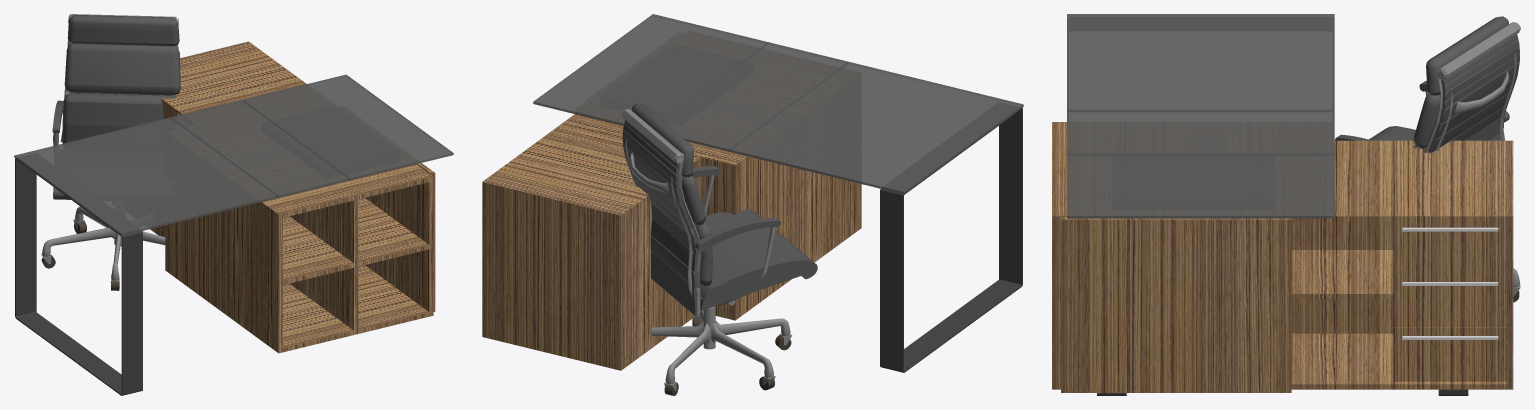
The model's file is desk-160-drawers-left.glb.
3 views of the same model, side by side, from view 1: azimuth 30°, elevation 25°; view 2: azimuth 150°, elevation 25°; view 3: azimuth 270°, elevation 25° (orthographic). The views are drawn at different scales.
Visible parts, largest first — view 1: Geom3D (×3), Geom3D_ (×2); view 2: Geom3D (×4), Geom3D_ (×2); view 3: Geom3D (×3), Geom3D_ (×2).
Boxes of the visible parts, x1=… form: Geom3D (×3): x1=14, y1=41, x2=453, y2=395; Geom3D_ (×2): x1=41, y1=14, x2=180, y2=285; Geom3D (×4): x1=482, y1=14, x2=1023, y2=395; Geom3D_ (×2): x1=622, y1=103, x2=817, y2=390; Geom3D (×3): x1=1052, y1=14, x2=1513, y2=392; Geom3D_ (×2): x1=1335, y1=16, x2=1520, y2=296.
Size of the model in its own units: 1.6 by 1.03 by 1.57.
8 materials, 1 textured.
